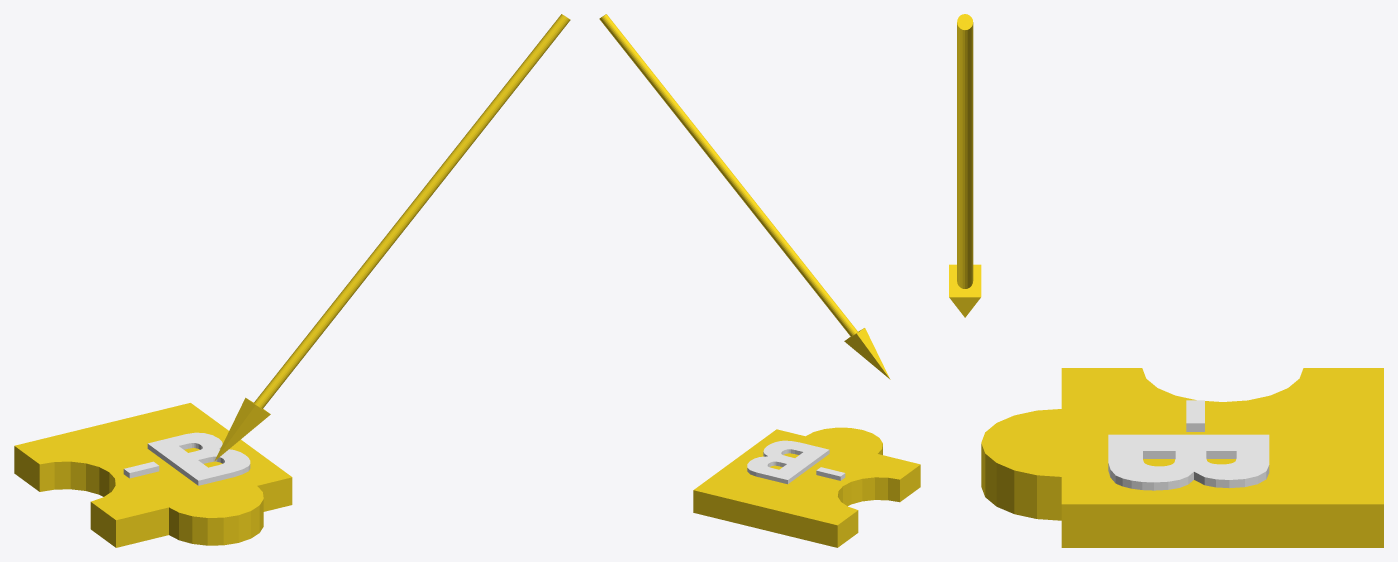
Rendered from tinker.obj.
3 renders of one model, left to right at view 1: azimuth 30°, elevation 25°; view 2: azimuth 150°, elevation 25°; view 3: azimuth 270°, elevation 25°, orthographic. The views are drawn at different scales.
Parts seen in each view (by area): view 1: group_0_16768282, group_0_16448250; view 2: group_0_16768282, group_0_16448250; view 3: group_0_16768282, group_0_16448250.
Part boxes in pixels (bbox=[...]): group_0_16768282: bbox=[14, 14, 570, 547]; group_0_16448250: bbox=[123, 432, 250, 485]; group_0_16768282: bbox=[599, 14, 920, 547]; group_0_16448250: bbox=[747, 440, 845, 484]; group_0_16768282: bbox=[949, 14, 1383, 547]; group_0_16448250: bbox=[1108, 400, 1269, 490].
Size of the model in its own units: 48 by 49.67 by 27.
